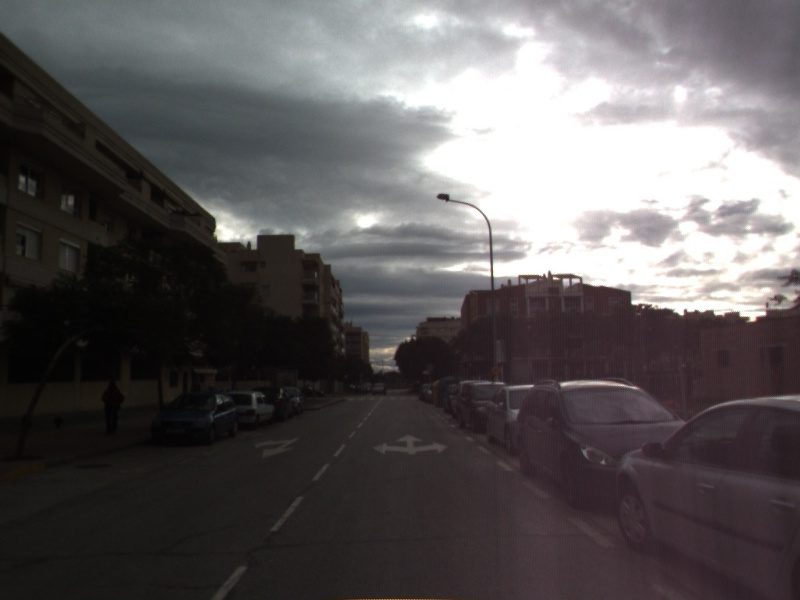STRAIGHT_LEFT_RIGHT: (370, 433, 450, 456)
